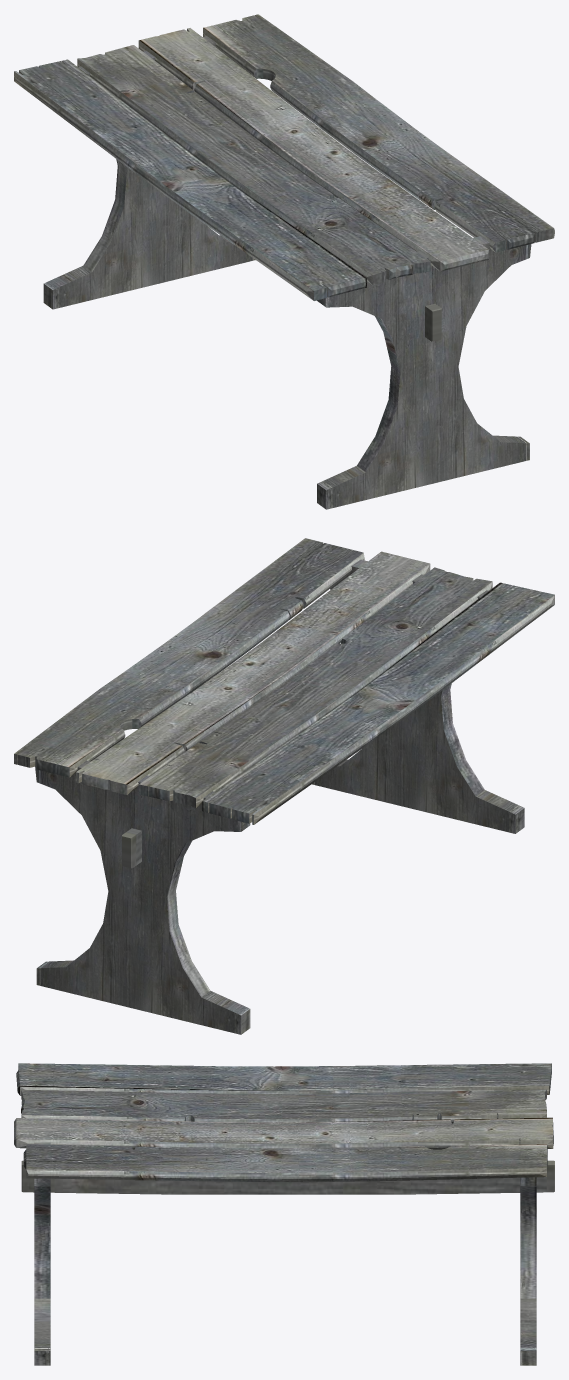
Rendered from TaulaPicnic.FBX.
The picture shows the model from 3 angles, top to bottom: view 1: azimuth 30°, elevation 25°; view 2: azimuth 150°, elevation 25°; view 3: azimuth 270°, elevation 25°; orthographic projection. The views are drawn at different scales.
Parts seen in each view (by area): view 1: obj0, obj1; view 2: obj0, obj1; view 3: obj0, obj1.
Boxes of the visible parts, x1=… form: obj0: x1=14, y1=14, x2=554, y2=300; obj1: x1=43, y1=36, x2=531, y2=509; obj0: x1=14, y1=538, x2=554, y2=824; obj1: x1=35, y1=559, x2=524, y2=1034; obj0: x1=14, y1=1063, x2=553, y2=1181; obj1: x1=21, y1=1117, x2=554, y2=1365.
Bounding box in the file's own units: 0.9462 × 0.8328 × 1.99.
2 materials, 2 textured.
